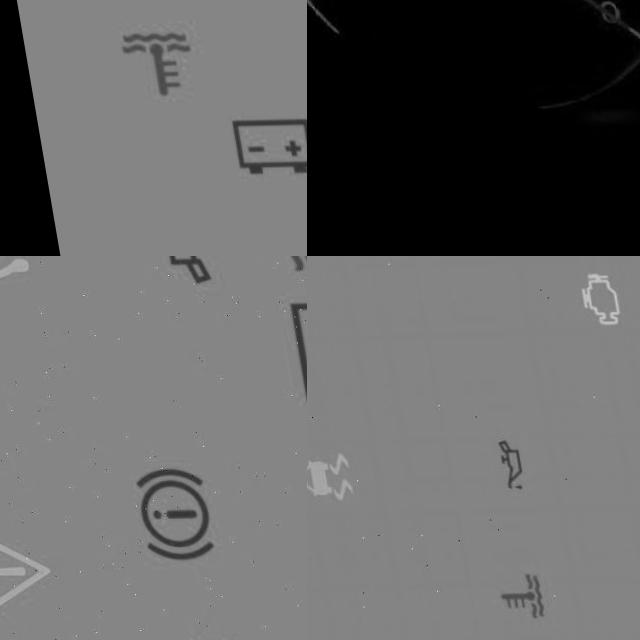High Engine Coolant Temperature: (91, 18, 196, 113)
